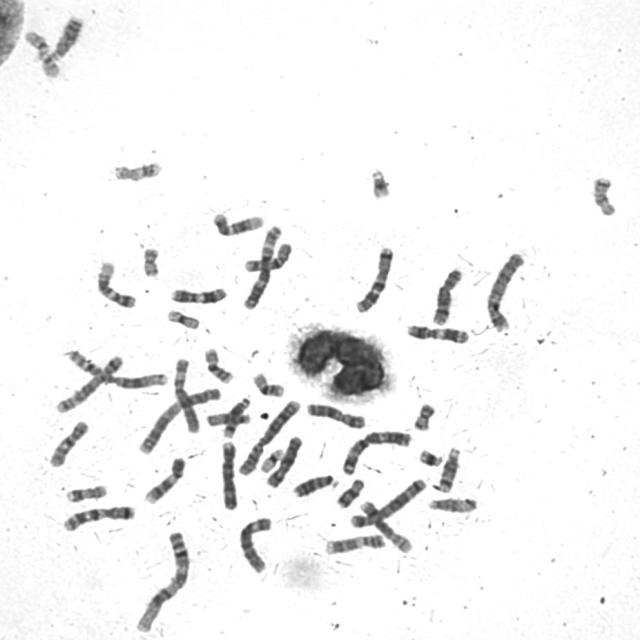A1: (131, 528, 192, 634), (63, 346, 170, 391)
A2: (135, 385, 224, 456), (235, 397, 302, 477)
A3: (240, 221, 284, 310), (338, 428, 414, 476)
B4: (483, 249, 528, 333), (218, 438, 240, 512)
B5: (346, 475, 429, 530), (52, 352, 125, 414)
C10: (46, 417, 91, 469), (241, 239, 293, 274)
C11: (402, 322, 471, 345), (167, 284, 229, 305)
C12: (93, 258, 138, 310), (209, 209, 266, 237)
C6: (170, 355, 202, 434), (235, 514, 275, 574)
C7: (352, 243, 396, 314), (59, 502, 138, 533)
C8: (357, 498, 415, 554), (429, 264, 466, 328)
C9: (141, 454, 187, 505), (321, 531, 387, 556)
D13: (49, 13, 86, 60), (290, 471, 338, 499)
D14: (220, 393, 253, 439), (434, 444, 463, 494)
D15: (424, 495, 480, 514), (203, 409, 253, 427)
E16: (201, 345, 235, 385), (249, 369, 287, 398)
E17: (110, 158, 163, 182), (63, 482, 109, 504)
E18: (590, 173, 618, 217), (333, 476, 366, 510)
F19: (164, 307, 202, 330), (256, 445, 285, 474)
F20: (411, 400, 438, 432), (140, 245, 162, 278)
G21: (366, 165, 393, 200), (416, 446, 444, 468)
G22: (22, 28, 52, 56), (35, 49, 62, 80)
X: (263, 433, 305, 489), (304, 400, 368, 430)
